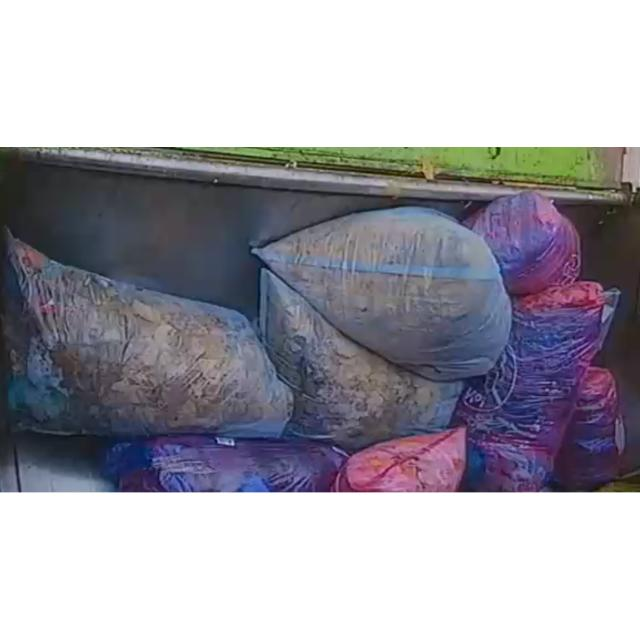other_trashbag: (6, 230, 292, 437), (252, 207, 511, 381), (260, 268, 462, 451), (456, 282, 610, 490), (109, 436, 346, 492), (464, 192, 580, 296), (334, 427, 466, 492), (554, 367, 622, 491)
